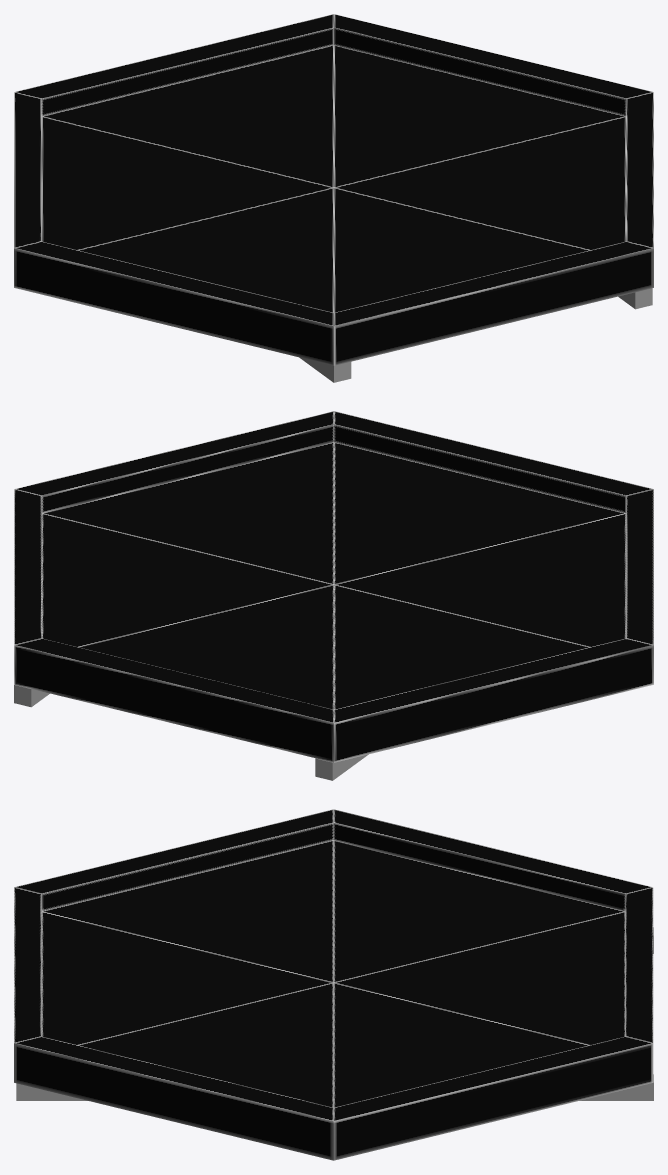
Rendered from solar-panel.fbx.
3 renders of one model, top to bottom at view 1: azimuth 30°, elevation 25°; view 2: azimuth 150°, elevation 25°; view 3: azimuth 270°, elevation 25°, orthographic.
Parts seen in each view (by area): view 1: solar_panel, bracket; view 2: solar_panel, bracket; view 3: solar_panel, bracket1.
Boxes of the visible parts, box(x1,y1,x2,y2) form: solar_panel: box(14, 14, 653, 365); bracket: box(299, 357, 351, 382); solar_panel: box(14, 411, 653, 762); bracket: box(315, 754, 368, 780); solar_panel: box(14, 809, 653, 1160); bracket1: box(16, 1074, 653, 1100).
Bounding box in the file's own units: 2.29 × 0.2435 × 1.98.
